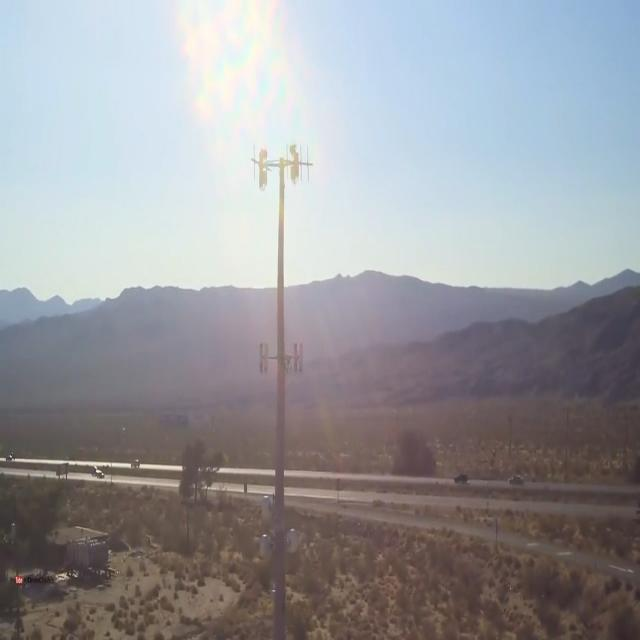Pole: (248, 138, 313, 640)
